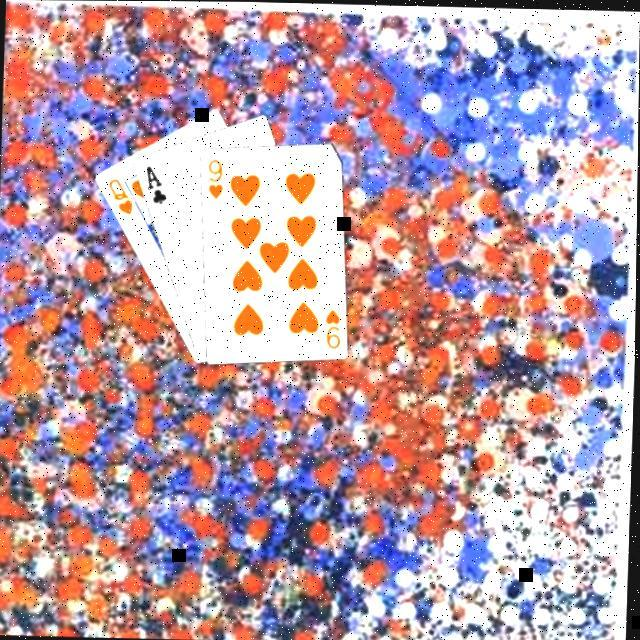9H: (205, 152, 229, 199), (323, 302, 347, 348)
AC: (144, 159, 172, 204)
QH: (105, 172, 139, 216)
